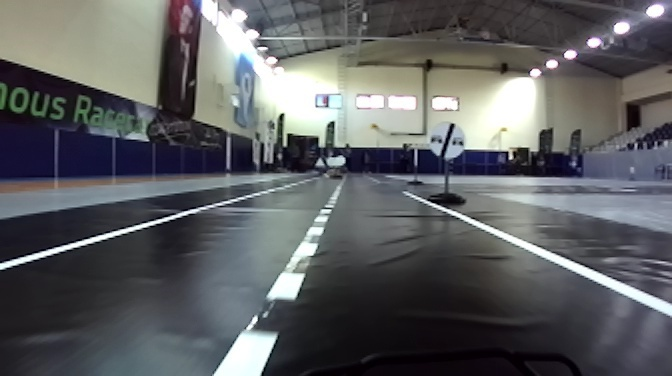sollama_serbest: (428, 122, 464, 160)
